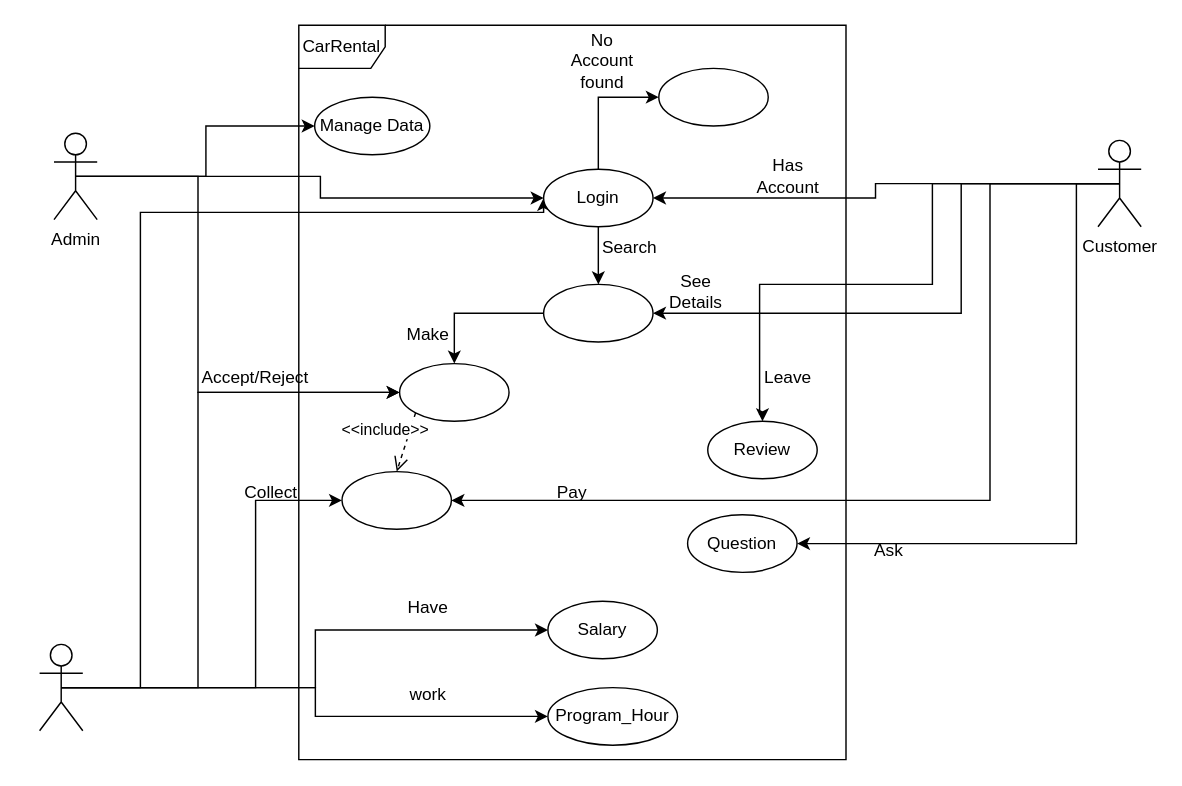
This 1182x786 diagram has some shape labels left out. The shapes that lost their labels are listed below. From the top down, each one's centre as x and y in pixels, then its label:
At pixel 712 96: "Register".
At pixel 597 312: "Car".
At pixel 453 391: "Book".
At pixel 396 499: "Bill".
At pixel 60 687: "Employer".
